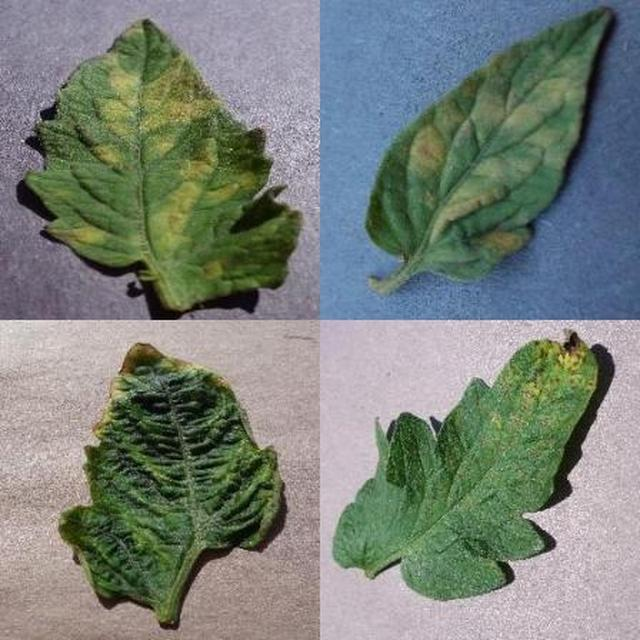Leaf Mold: (234, 209, 640, 640)
